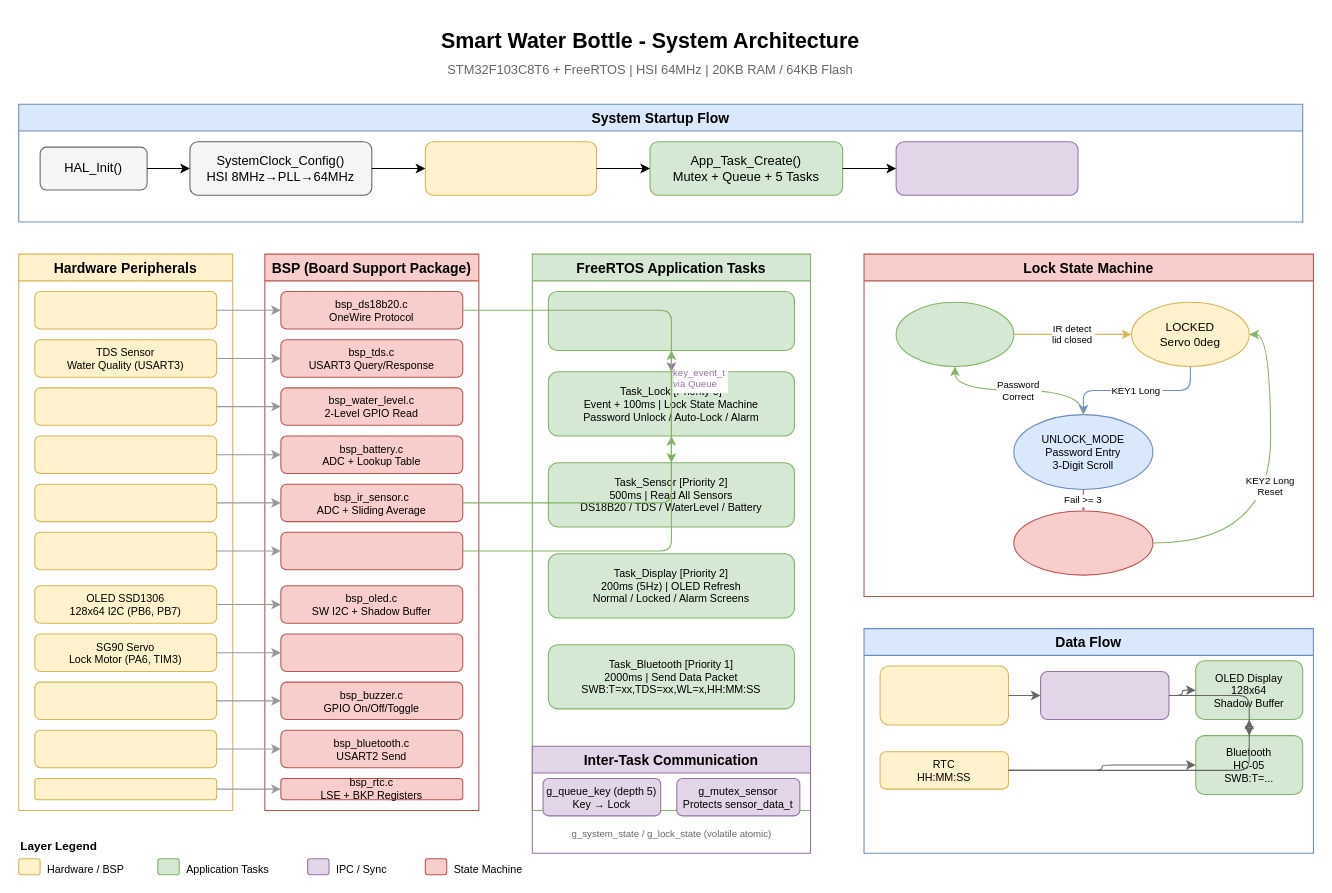
This 1332x893 diagram has some shape labels left out. Here are the shapes that lost their labels. From the top down, the centre of each, then its label:
At (x=510, y=168): "BSP_Init() 14 Hardware Modules".
At (x=986, y=168): "vTaskStartScheduler() FreeRTOS Kernel".
At (x=125, y=310): "DS18B20 Temperature (PA8)".
At (x=670, y=320): "Task_Key [Priority 4] 20ms | Debounce + Key Scan → Queue key_event_t".
At (x=954, y=333): "UNLOCKED Servo 90deg".
At (x=125, y=406): "M04 Water Level 2-Level (PB0, PB1)".
At (x=125, y=454): "Battery ADC Voltage (PA0, ADC_CH0)".
At (x=125, y=502): "IR Distance Sensor GP2Y0A21 (PA1, ADC_CH1)".
At (x=125, y=550): "Keys KEY1 (PA4) KEY2 (PA5)".
At (x=371, y=550): "bsp_key.c Debounce + Long Press".
At (x=1083, y=542): "ALARM Buzzer ON Fail >= 3".
At (x=371, y=652): "bsp_servo.c TIM3 PWM Control".
At (x=125, y=700): "Buzzer Alert Sound (PB5)".
At (x=943, y=695): "Sensors (DS18B20, TDS, WaterLevel, Battery)".
At (x=1104, y=695): "sensor_data_t (Mutex Protected)".
At (x=125, y=748): "HC-05 Bluetooth USART2 (PA2, PA3)".
At (x=125, y=788): "RTC + LSE 32.768kHz Backup Battery (VBAT)".
